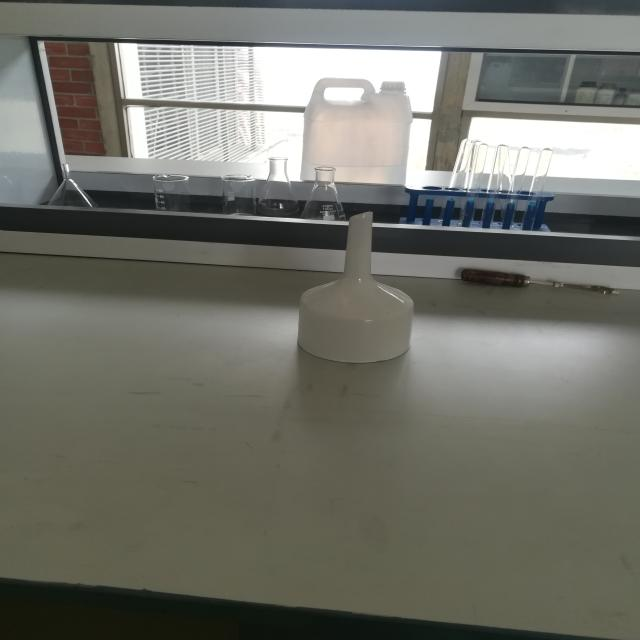Buchner_Funnel: (265, 191, 469, 395)
